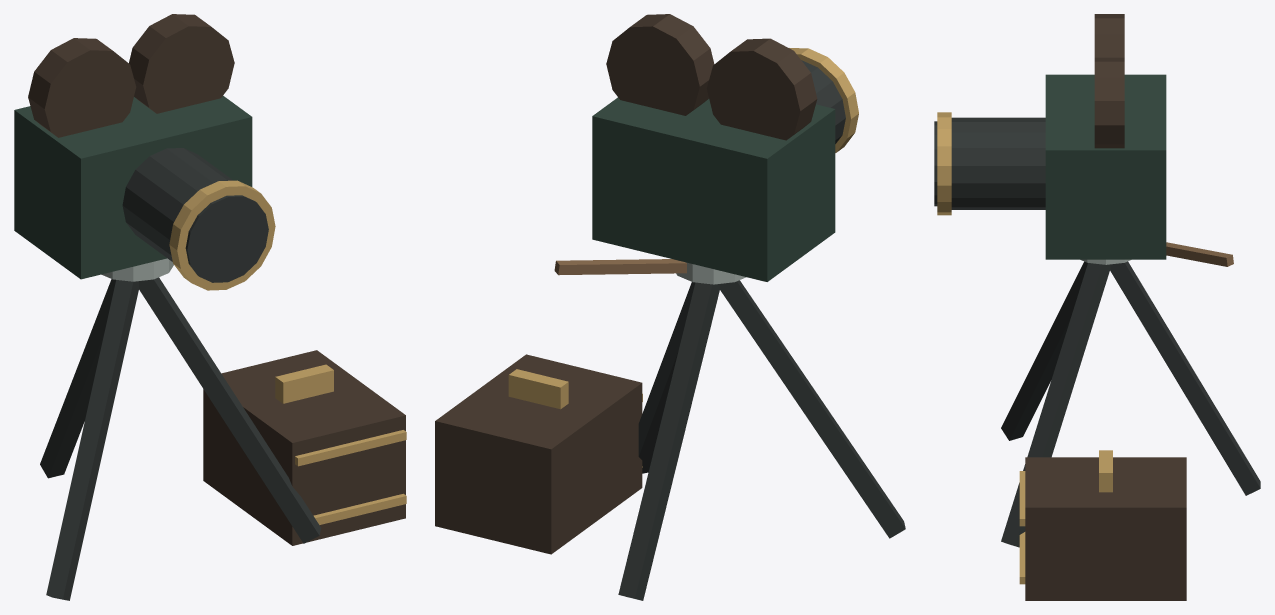
Rendered from 06_Cinema_Camera.fbx.
3 views of the same model, side by side, from view 1: azimuth 30°, elevation 25°; view 2: azimuth 150°, elevation 25°; view 3: azimuth 270°, elevation 25° (orthographic). The views are drawn at different scales.
Parts seen in each view (by area): view 1: Structure.004; view 2: Structure.004; view 3: Structure.004.
Boxes of the visible parts, left/top/right/bottom form: Structure.004: left=14, top=14, right=406, bottom=600; Structure.004: left=435, top=14, right=905, bottom=600; Structure.004: left=934, top=14, right=1260, bottom=600.
Bounding box in the file's own units: 216 × 286 × 184.
